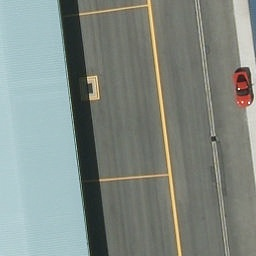car: (232, 71, 254, 106)
